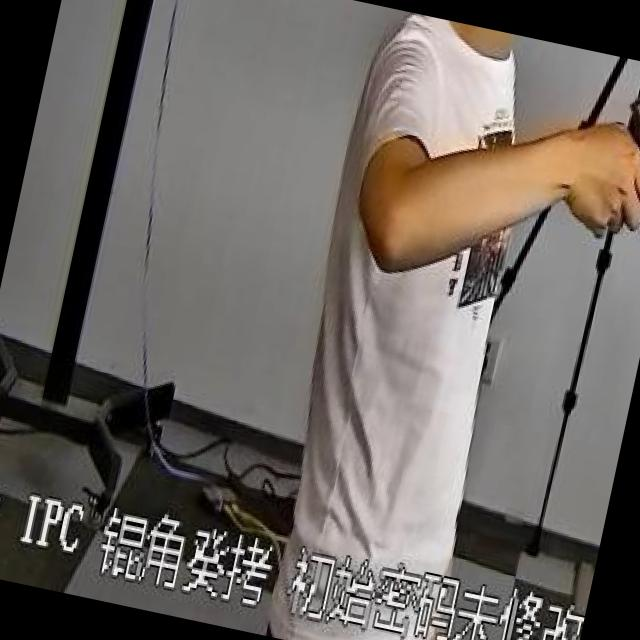Guns: (577, 65, 640, 300)
